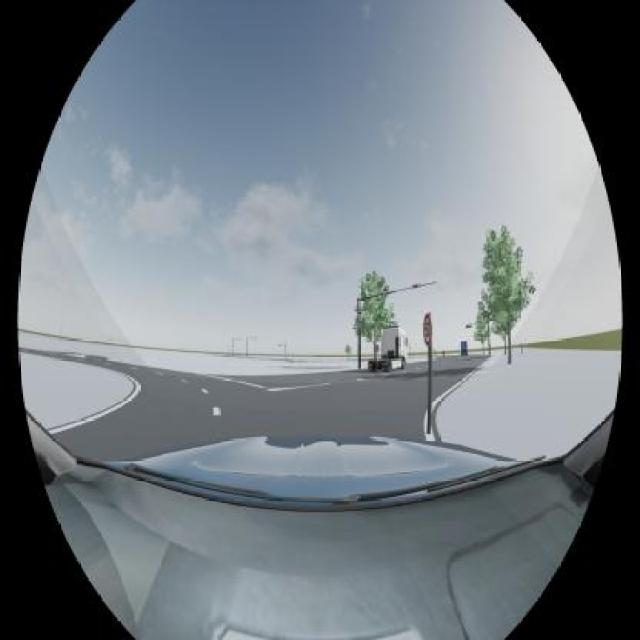forb_speed_over_50: (424, 314, 431, 346)
forb_speed_over_60: (373, 345, 379, 352)
